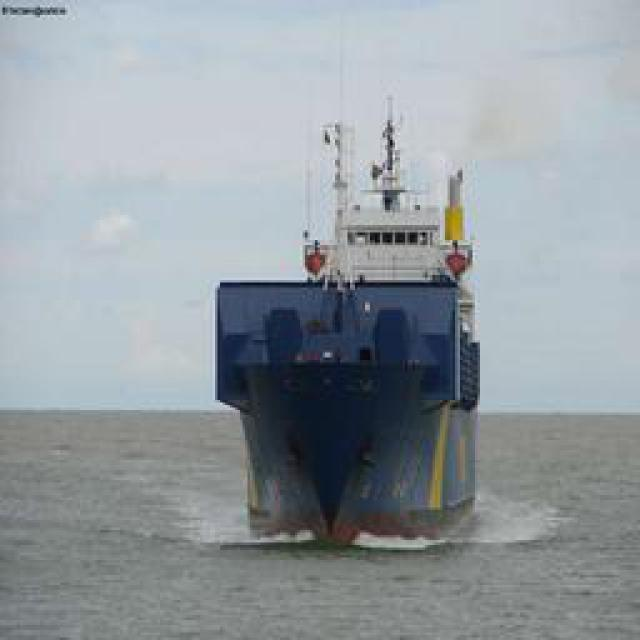Ship: (193, 32, 512, 558)
